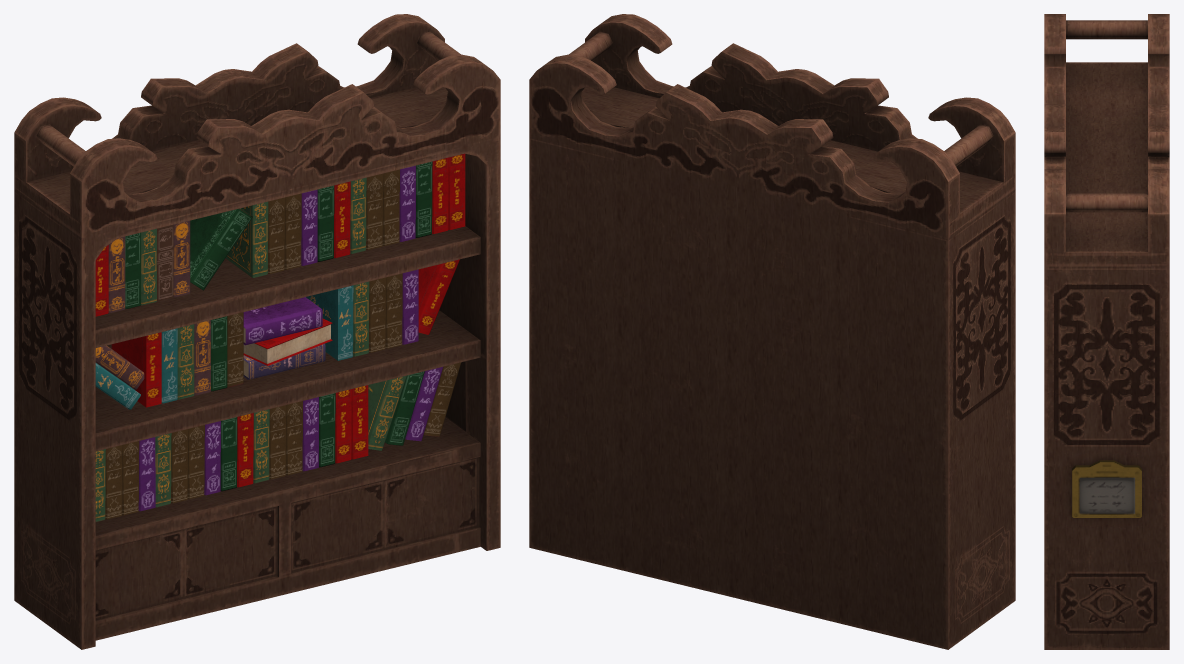
The model's file is sb_obj_DemonsCastle007_BookShelf02.fbx.
The picture shows the model from 3 angles, left to right: view 1: azimuth 30°, elevation 25°; view 2: azimuth 150°, elevation 25°; view 3: azimuth 270°, elevation 25°; orthographic projection. The views are drawn at different scales.
Parts seen in each view (by area): view 1: sb_obj_DemonsCastle007_BookShelf; view 2: sb_obj_DemonsCastle007_BookShelf; view 3: sb_obj_DemonsCastle007_BookShelf.
Part boxes in pixels (x1,y1,x2,y2): sb_obj_DemonsCastle007_BookShelf: (14,14,500,649); sb_obj_DemonsCastle007_BookShelf: (529,14,1015,649); sb_obj_DemonsCastle007_BookShelf: (1044,14,1169,649).
Size of the model in its own units: 2.35 by 2.62 by 0.6488.
